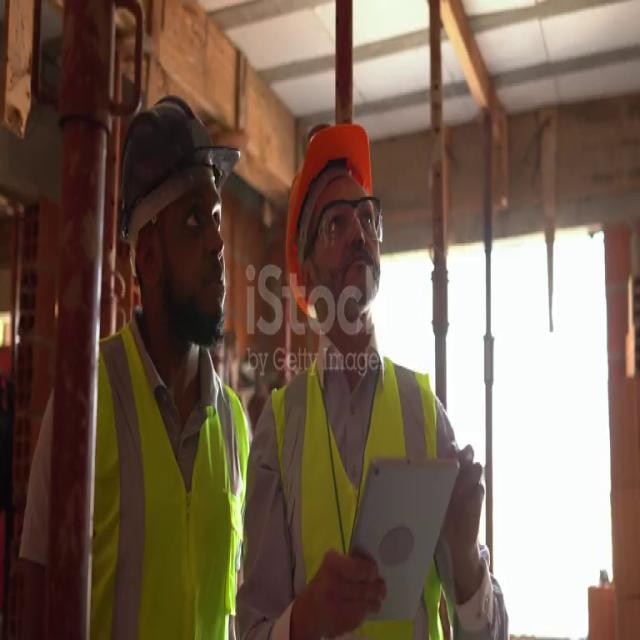capacete: (269, 119, 382, 315), (106, 85, 250, 238)
